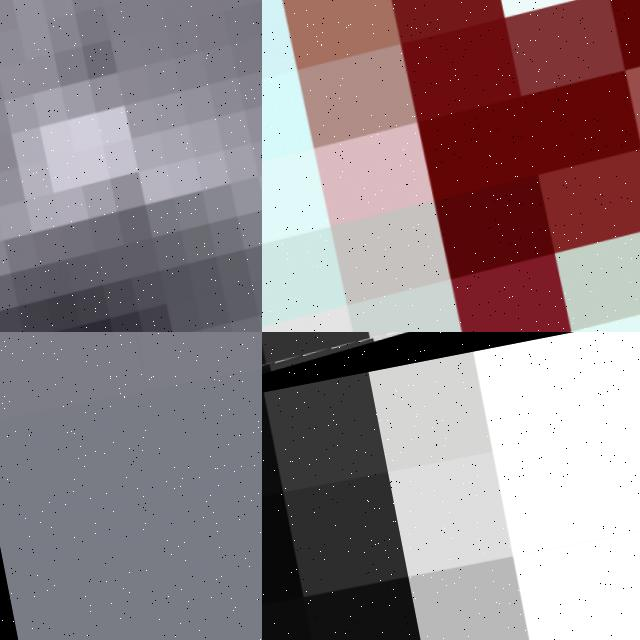0: (0, 0, 262, 332)
drone: (262, 0, 640, 332), (262, 332, 640, 433)
